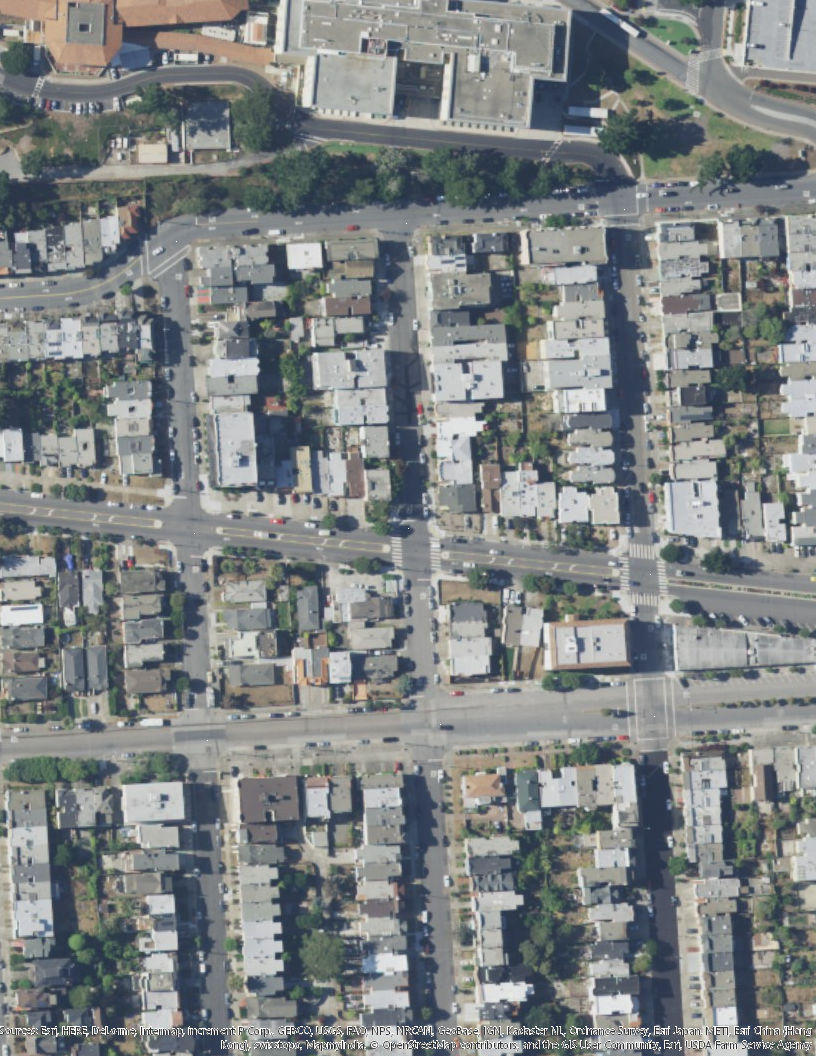zebracross: (628, 543, 658, 560), (655, 563, 670, 596), (428, 538, 443, 568), (620, 557, 633, 590), (390, 538, 404, 567)
